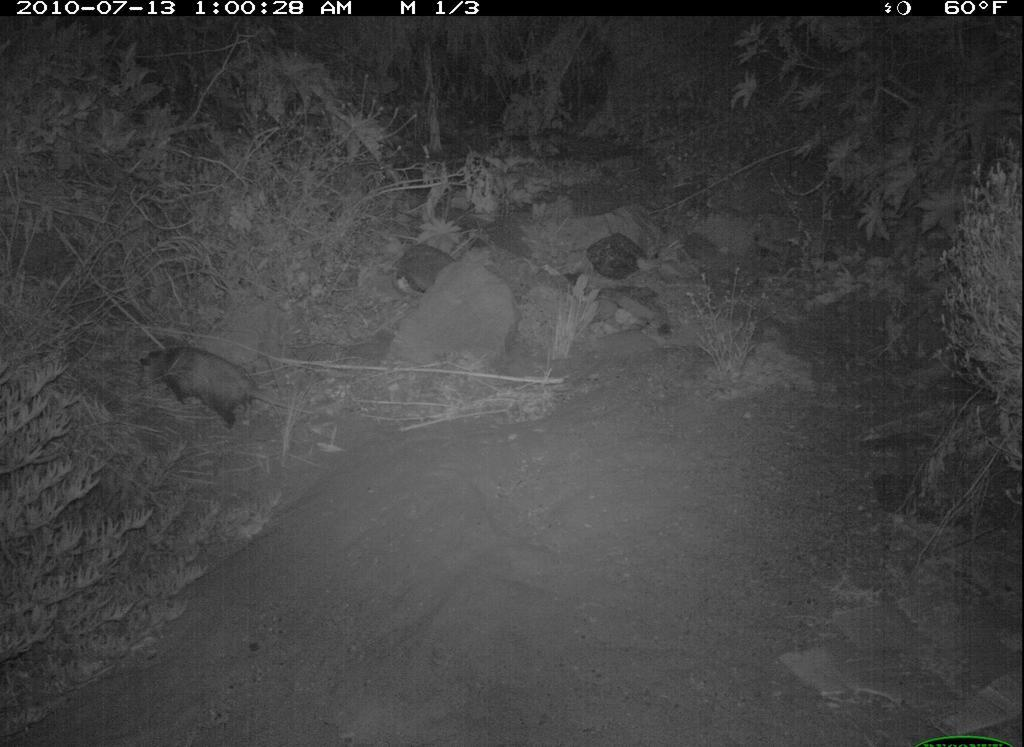opossum: (136, 341, 323, 437)
